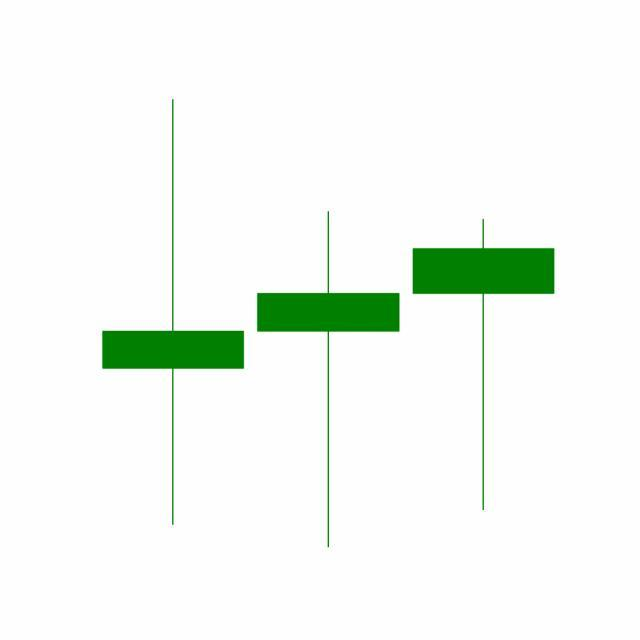Spinning Top: (250, 208, 407, 551)
